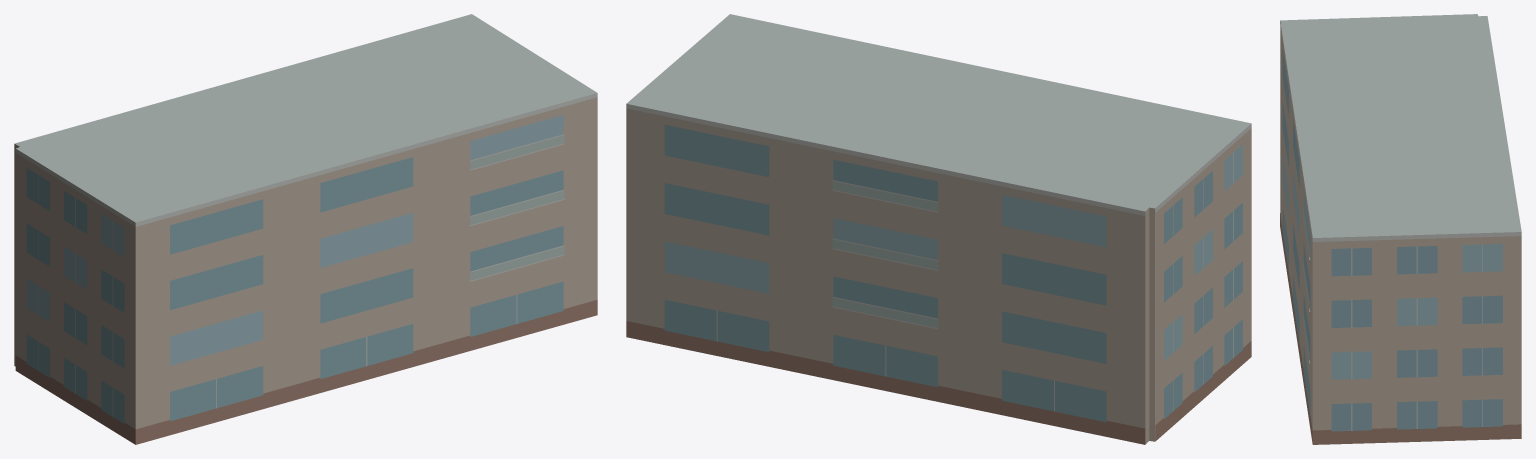
The model's file is survey-upis-32629253.glb.
3 renders of one model, left to right at view 1: azimuth 30°, elevation 25°; view 2: azimuth 150°, elevation 25°; view 3: azimuth 270°, elevation 25°, orthographic. The views are drawn at different scales.
Parts seen in each view (by area): view 1: survey-upis-32629253.tmp; view 2: survey-upis-32629253.tmp; view 3: survey-upis-32629253.tmp.
Part boxes in pixels (<box>): survey-upis-32629253.tmp: <box>14,14,597,444</box>; survey-upis-32629253.tmp: <box>626,14,1251,444</box>; survey-upis-32629253.tmp: <box>1280,14,1521,444</box>.
Size of the model in its own units: 29.05 by 12.5 by 13.24.
